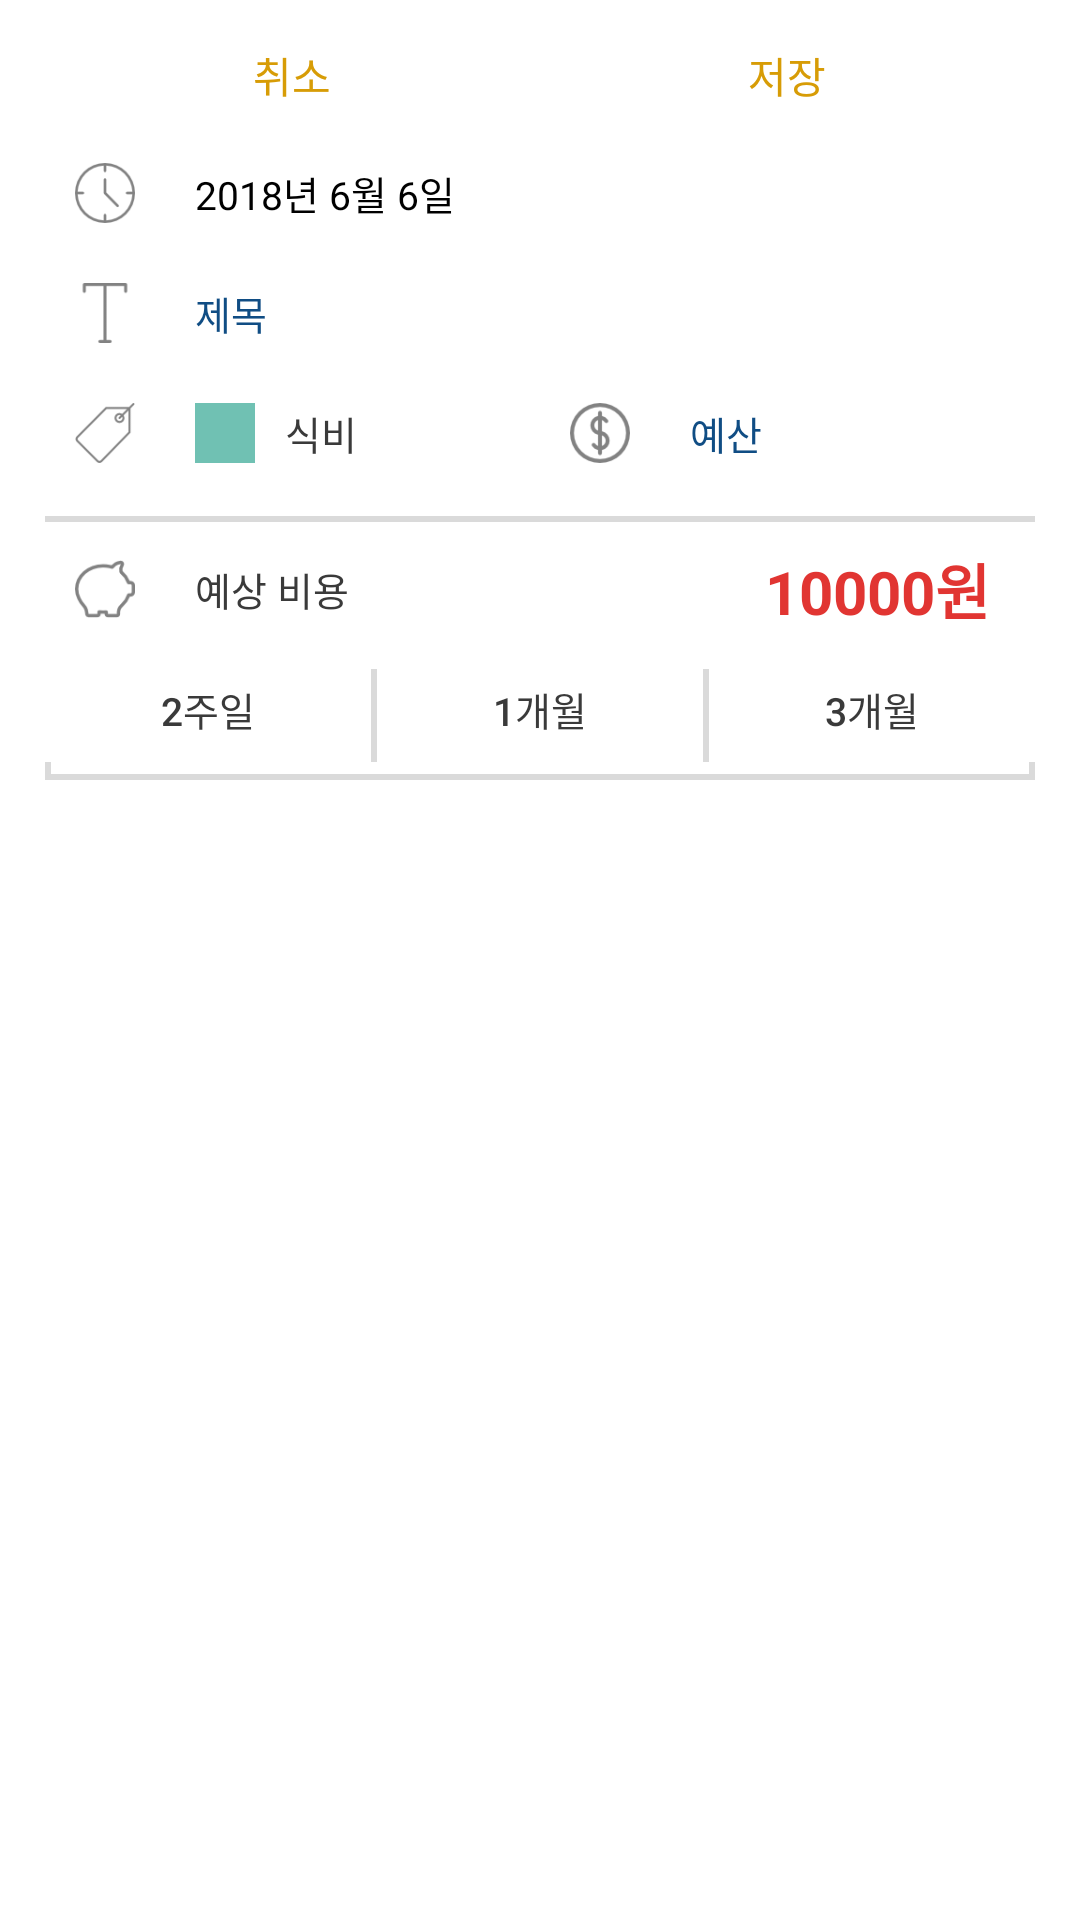

Icons on this 1080x1920 Android screen, each with the point to tap as (x,y):
clock: (105,193)
coin: (600,433)
tag: (105,433)
text: (105,313)
